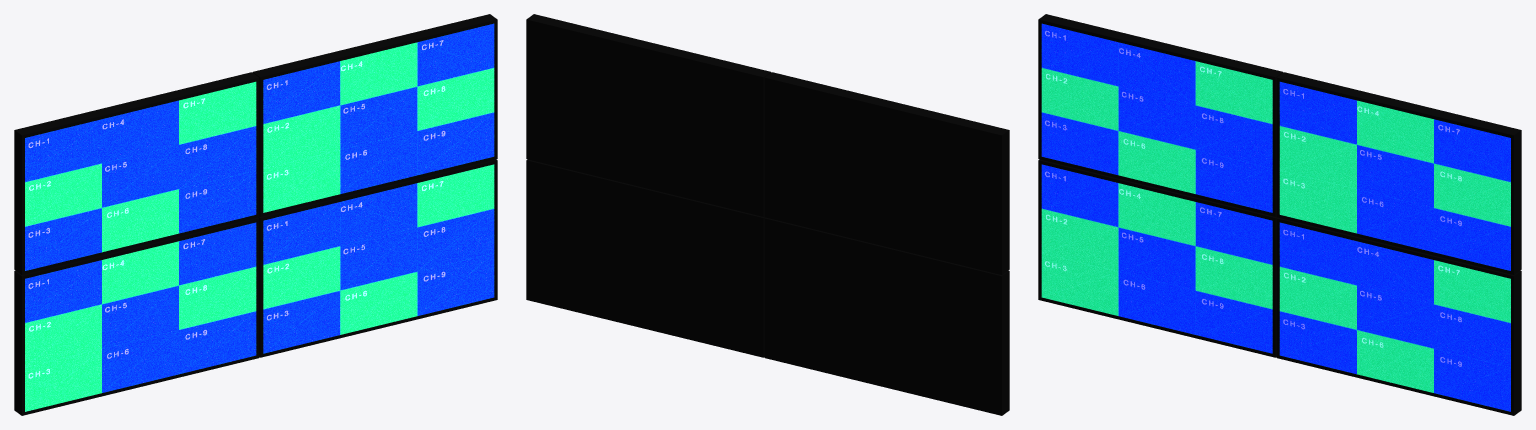
Rendered from cctv.fbx.
The picture shows the model from 3 angles, left to right: view 1: azimuth 30°, elevation 25°; view 2: azimuth 150°, elevation 25°; view 3: azimuth 330°, elevation 25°; orthographic projection.
Parts seen in each view (by area): view 1: cctv2_GEO, cctv1_GEO; view 2: cctv2_GEO, cctv1_GEO; view 3: cctv1_GEO, cctv2_GEO.
Part boxes in pixels (x1,y1,x2,y2): cctv2_GEO: (14, 14, 497, 415); cctv1_GEO: (14, 72, 497, 357); cctv2_GEO: (526, 14, 1009, 415); cctv1_GEO: (526, 72, 1009, 357); cctv1_GEO: (1038, 14, 1521, 415); cctv2_GEO: (1038, 72, 1521, 357).
Bounding box in the file's own units: 62.7 × 35.33 × 1.71.
2 materials, 2 textured.
